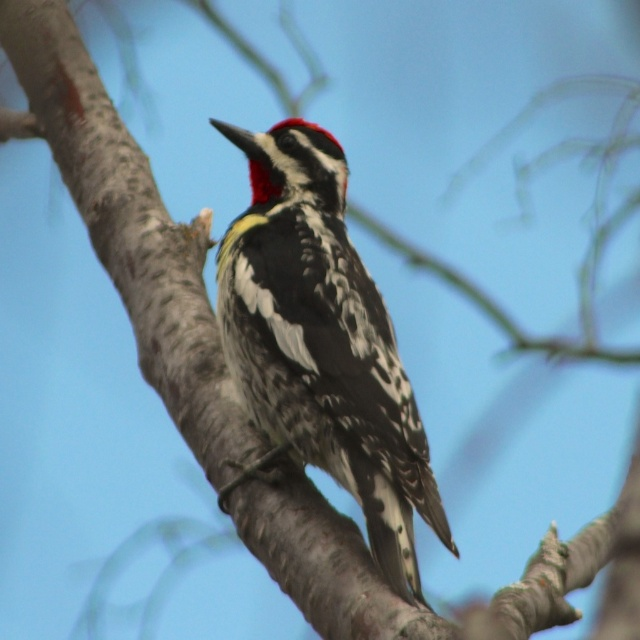Woodpecker: (209, 117, 460, 613)
